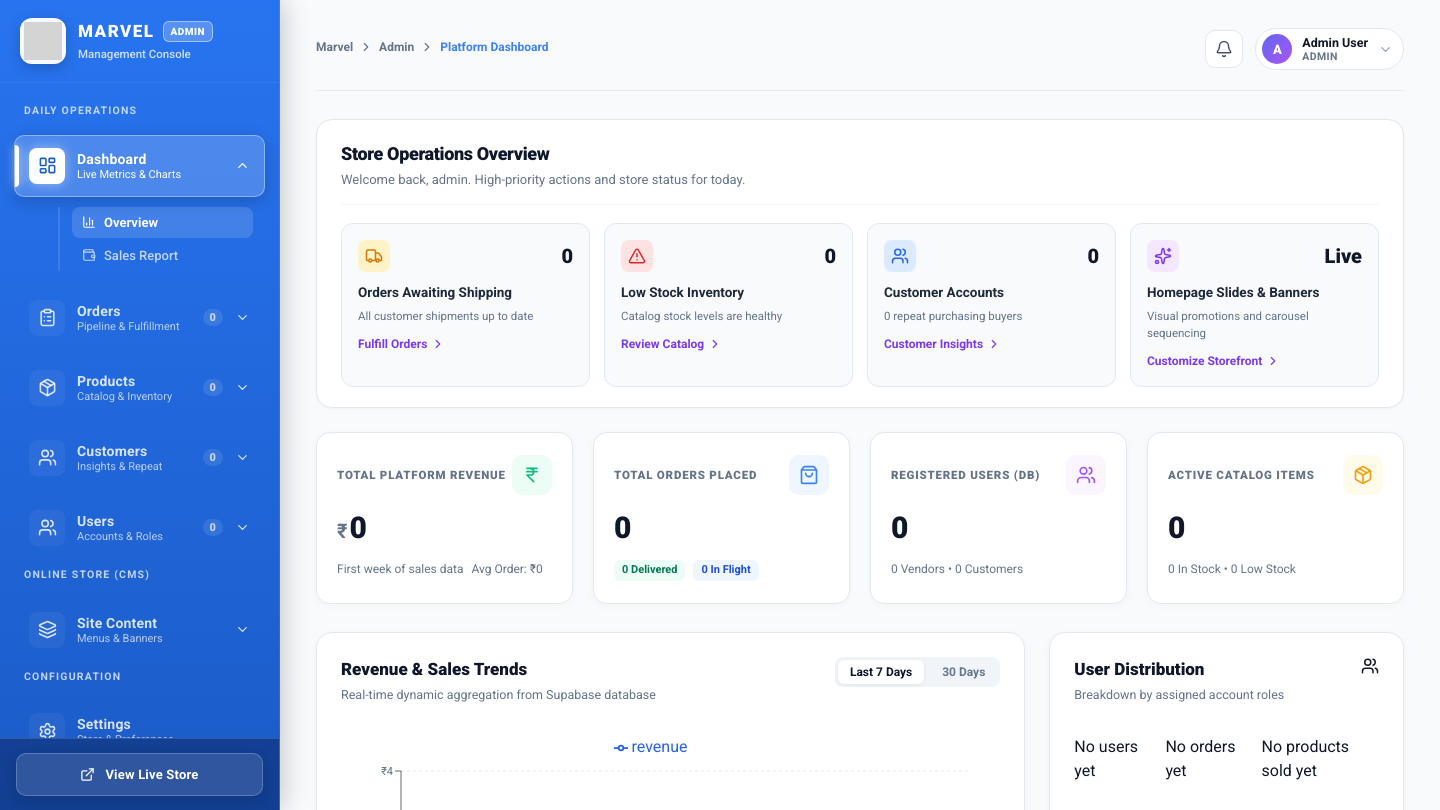
Test case: UnifiedAdminConsole › does not expose an initial status selector when adding a user
The image size is (1440, 810).
Click the button "Users Accounts & Roles 0".
click(140, 528)  # box [14,497,265,559]
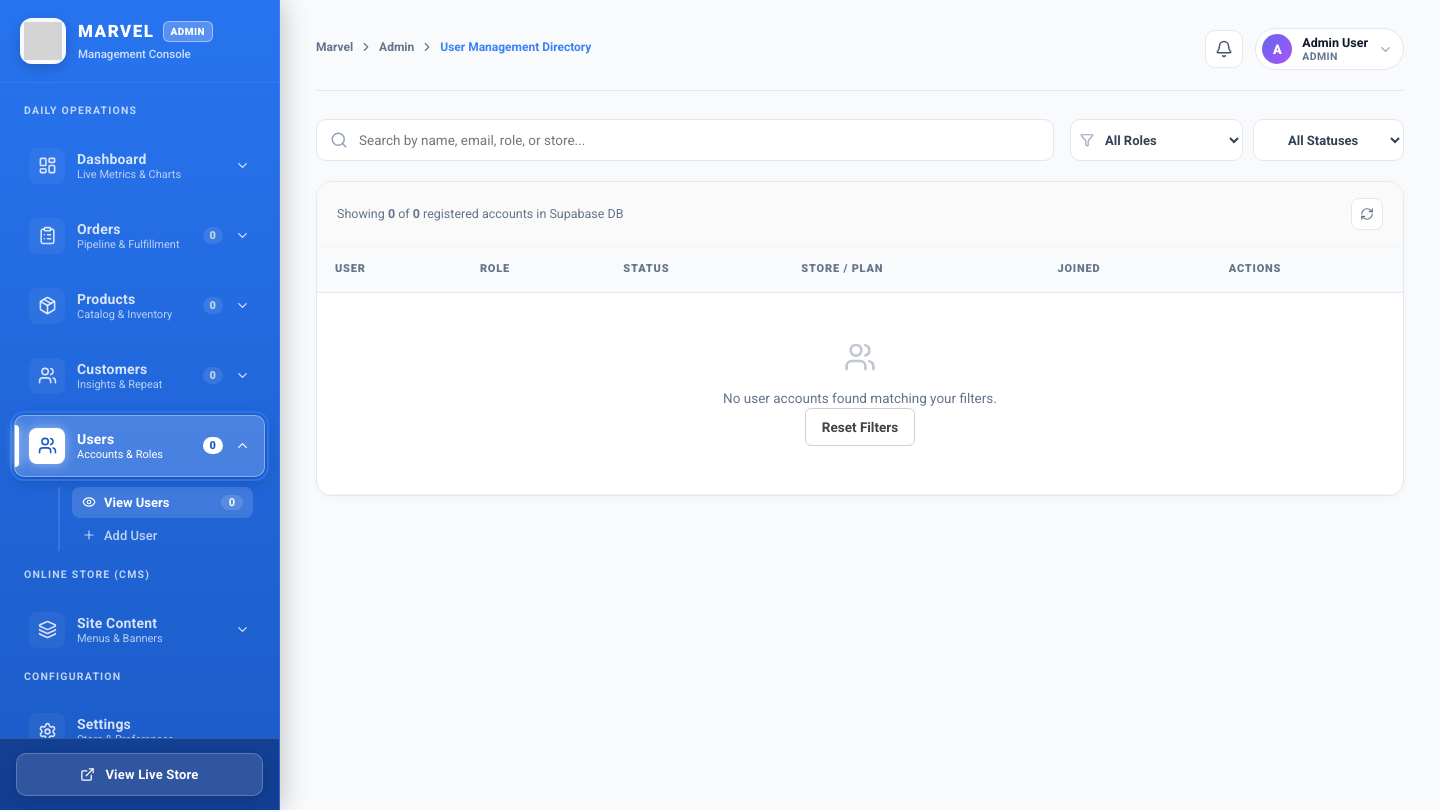
Click the button "Add User".
click(162, 535)  # box [72,520,253,551]
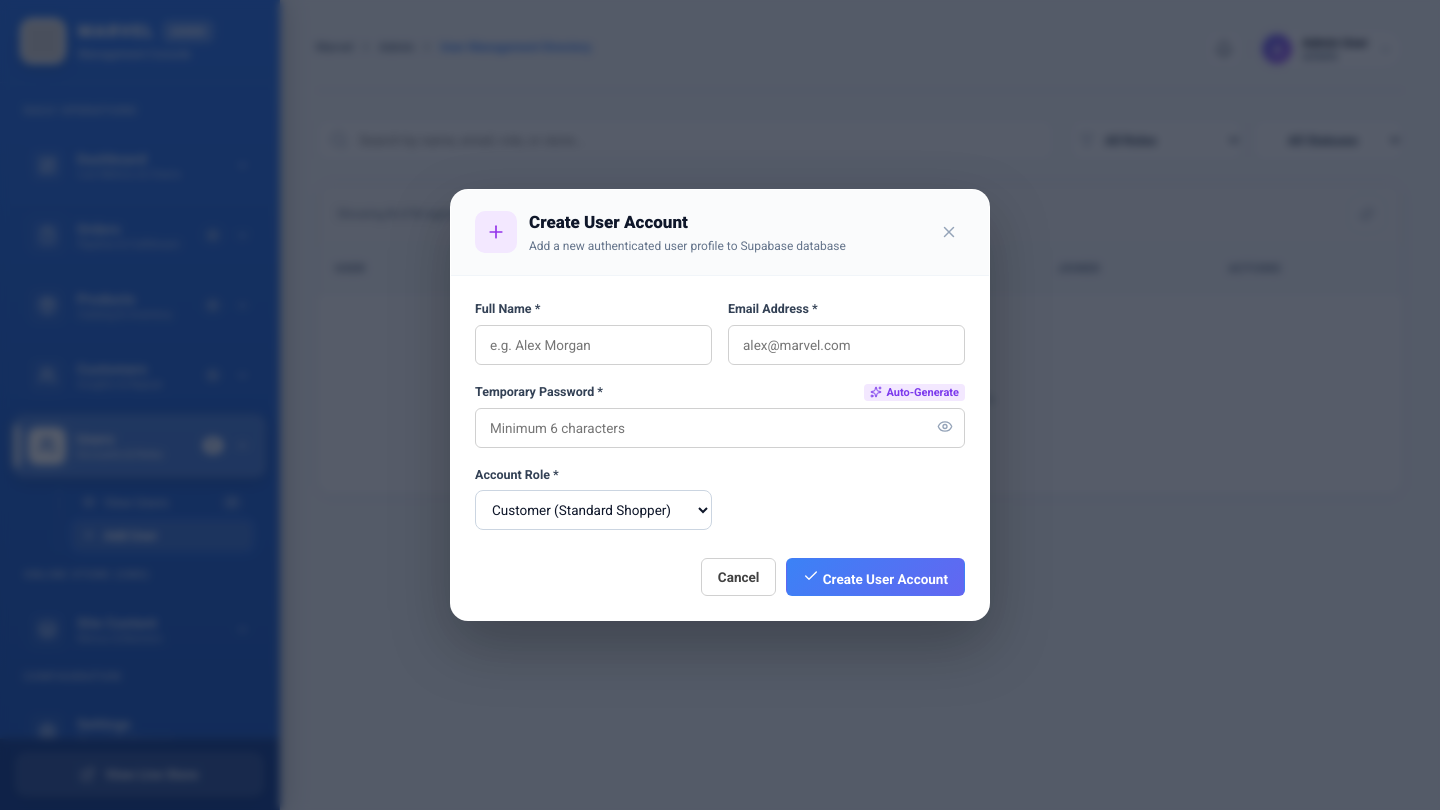
Now the heading "Create User Account" is shown, box [529,212,688,232]
